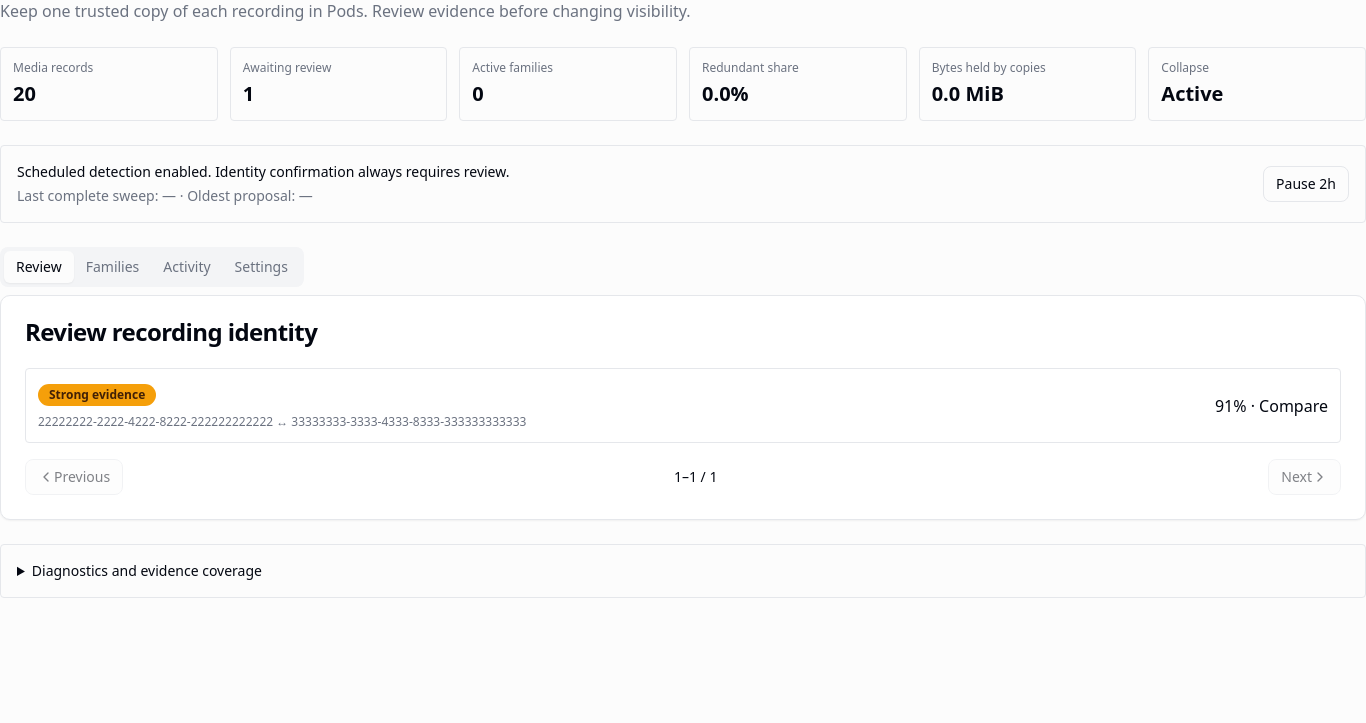
Test: paginates run evaluations independently of run history
Click the tab "Activity".
click(187, 267)  # box [151,251,223,283]
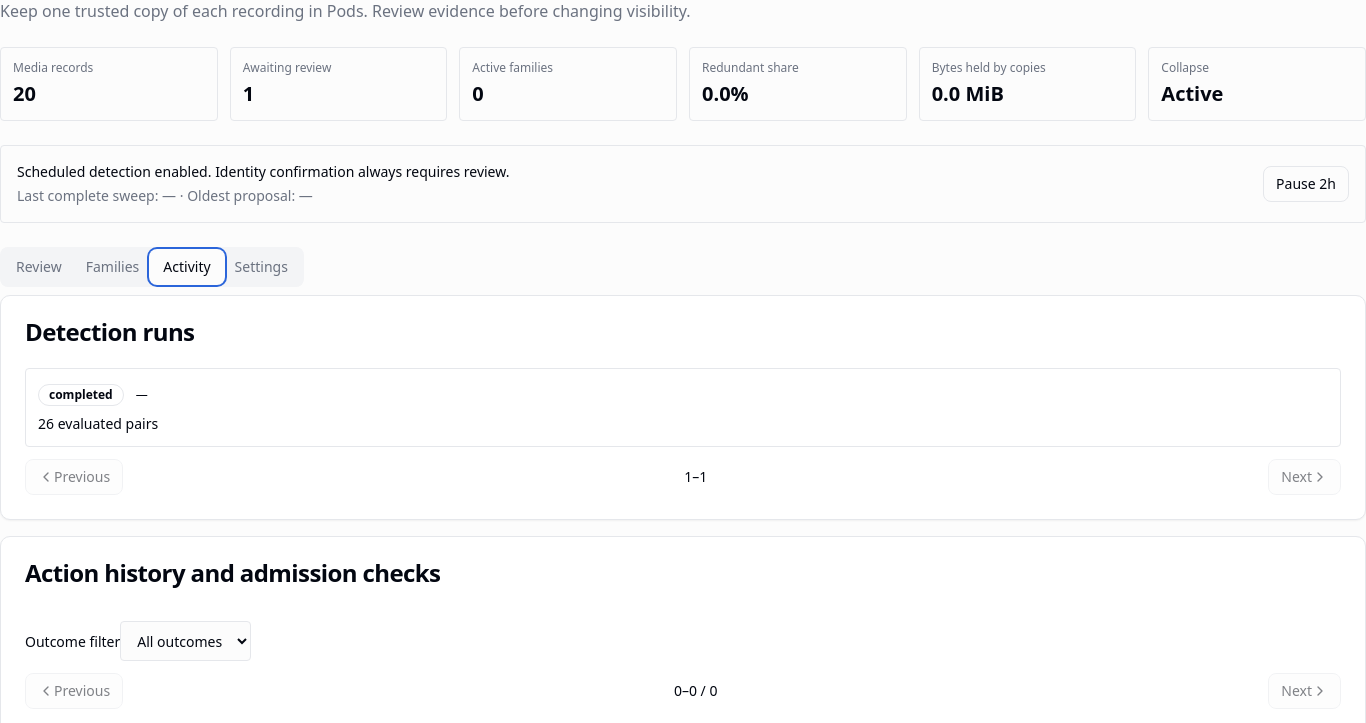
Click the button "completed — 26 evaluated pairs".
click(81, 395)  # box [25,368,1341,447]
(page scrolled)
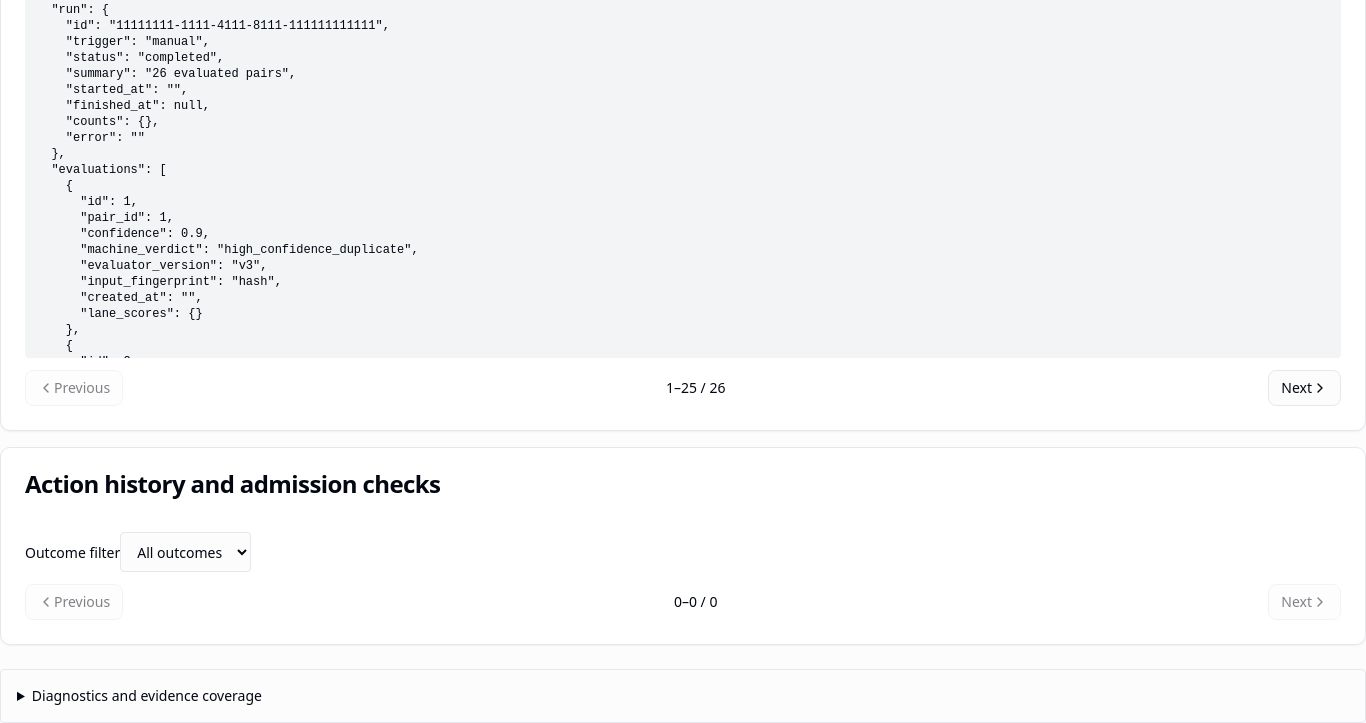
Result: the text "1–25 / 26" is shown at [666,378,726,398]
Click the button "Next" in the row of "/ 26".
click(1305, 388)  # box [1268,370,1341,406]
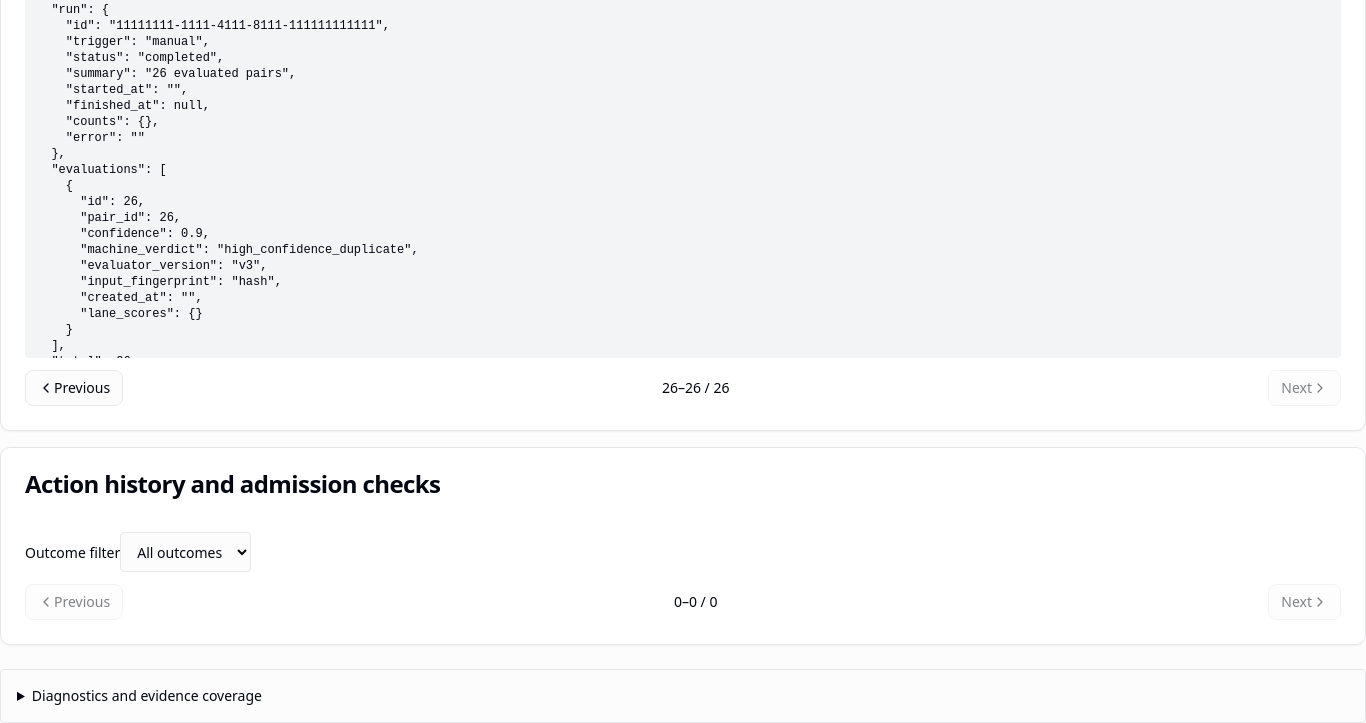
Result: the text "26–26 / 26" is shown at [662,378,730,398]
